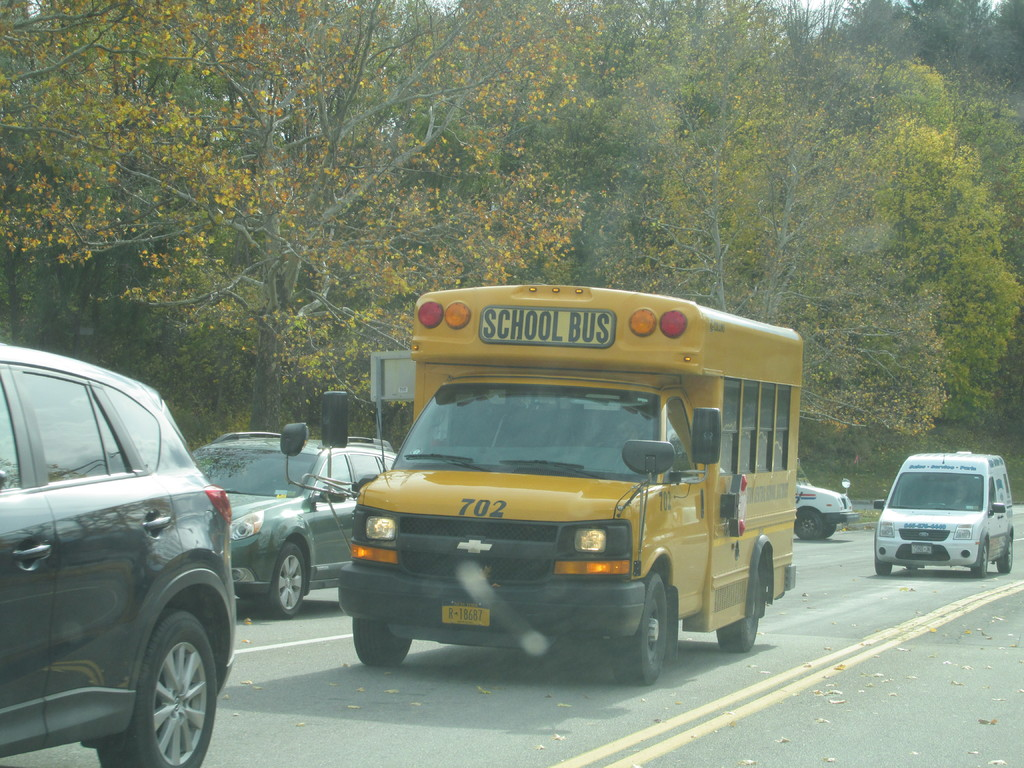Bus: (280, 282, 797, 675)
